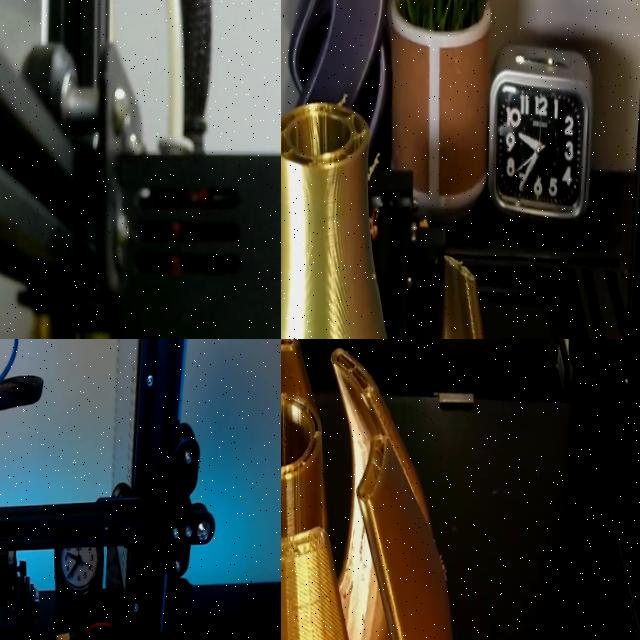spaghetti: (367, 146, 382, 186), (336, 86, 349, 105)
